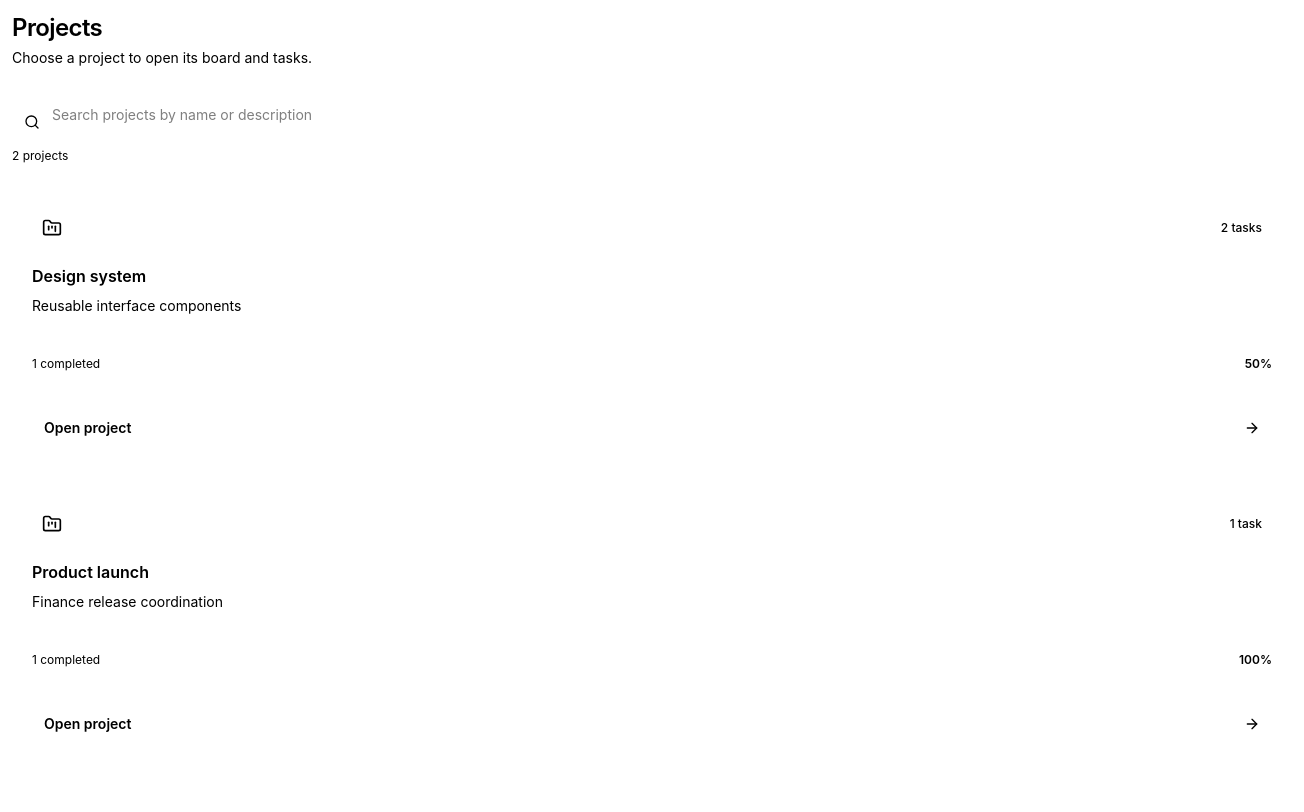
it: ProjectsOverview › searches project names and descriptions and restores boards after no matches
This screenshot has width=1304, height=812.
In the search field labelled "Search projects": (652, 114) [12,92,1292,136], type "FINANCE"
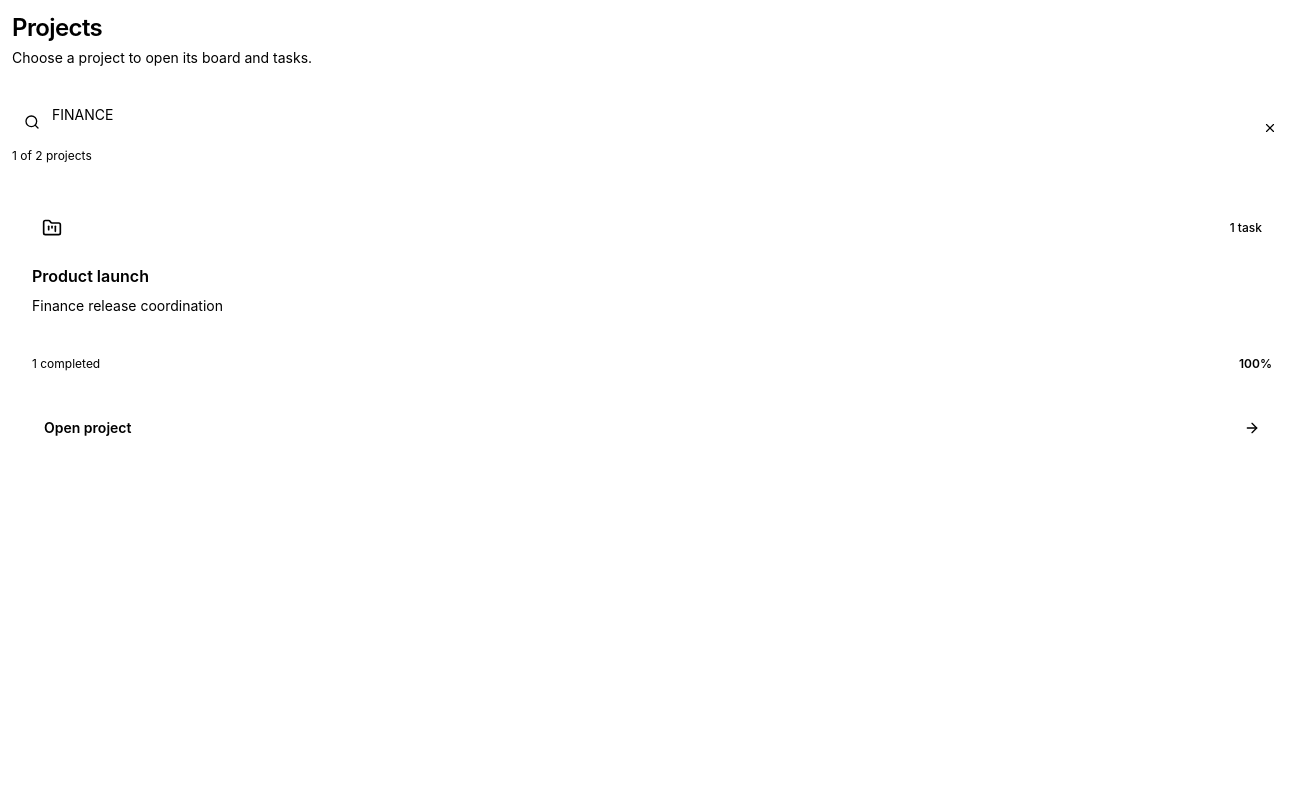
expect the element "Product launch" is shown: met, box [12,188,1292,468]
expect the heading "Design system" is gone: met
Replace the text in the search field named "Search projects" with "unmatched project": (652, 114) [12,92,1292,136]
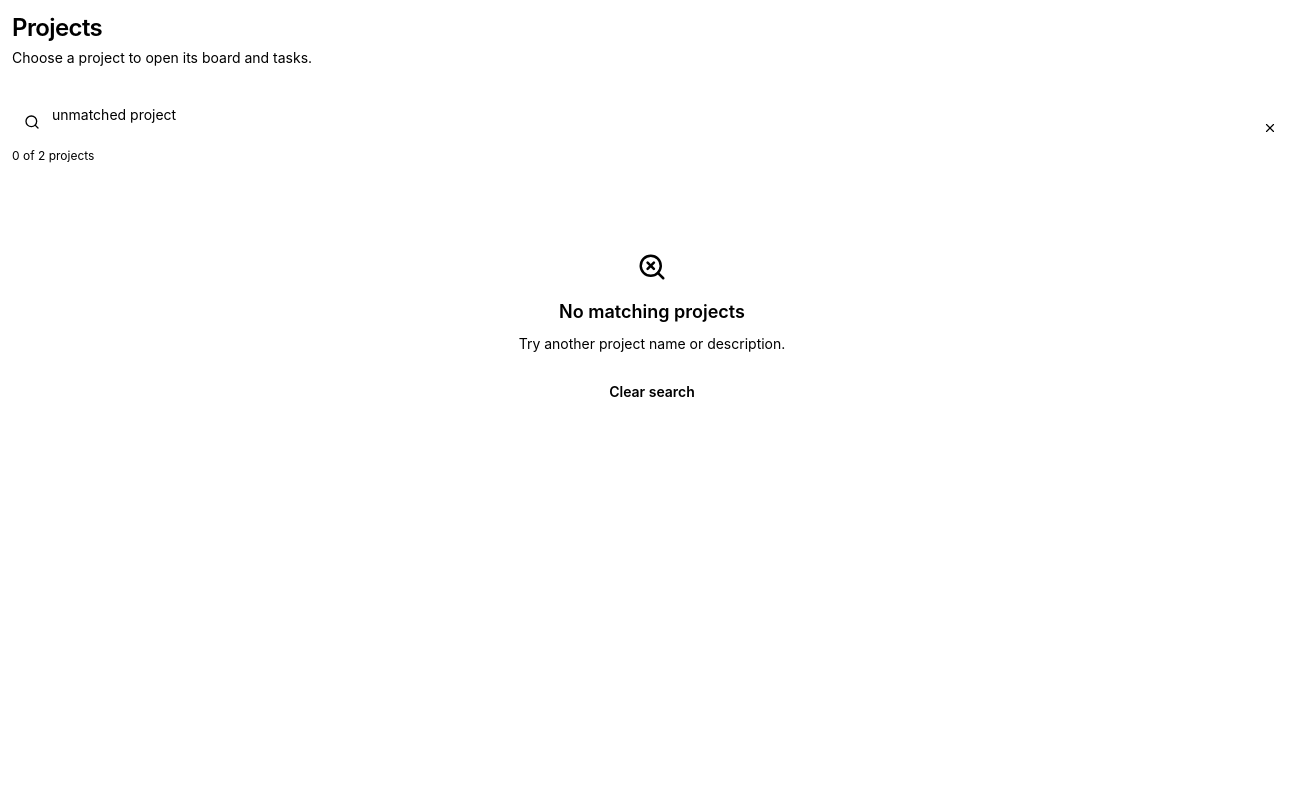
expect the heading "No matching projects" is shown: met, box [559,301,745,322]
Click the button "Clear search": (652, 392) [593,374,711,410]
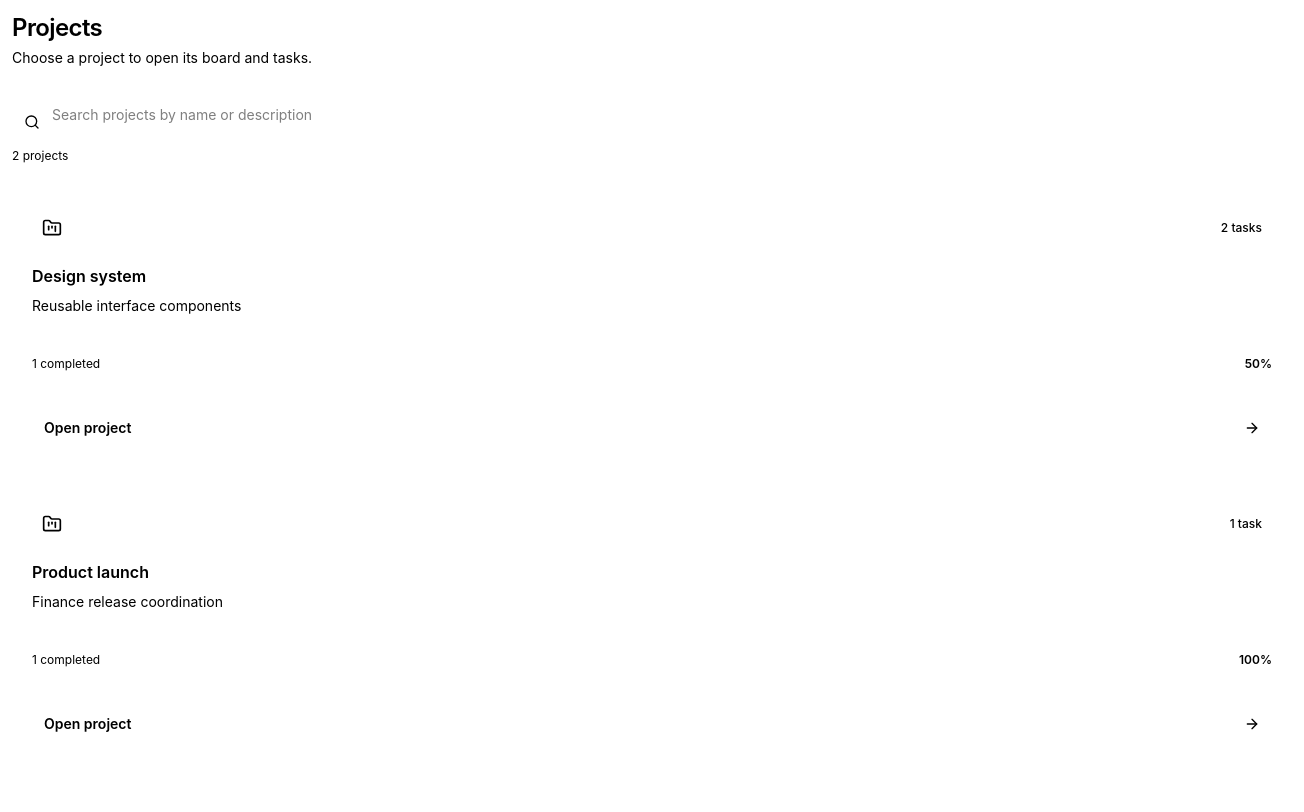
expect the search field labelled "Search projects" is empty: met, box [12,92,1292,136]
